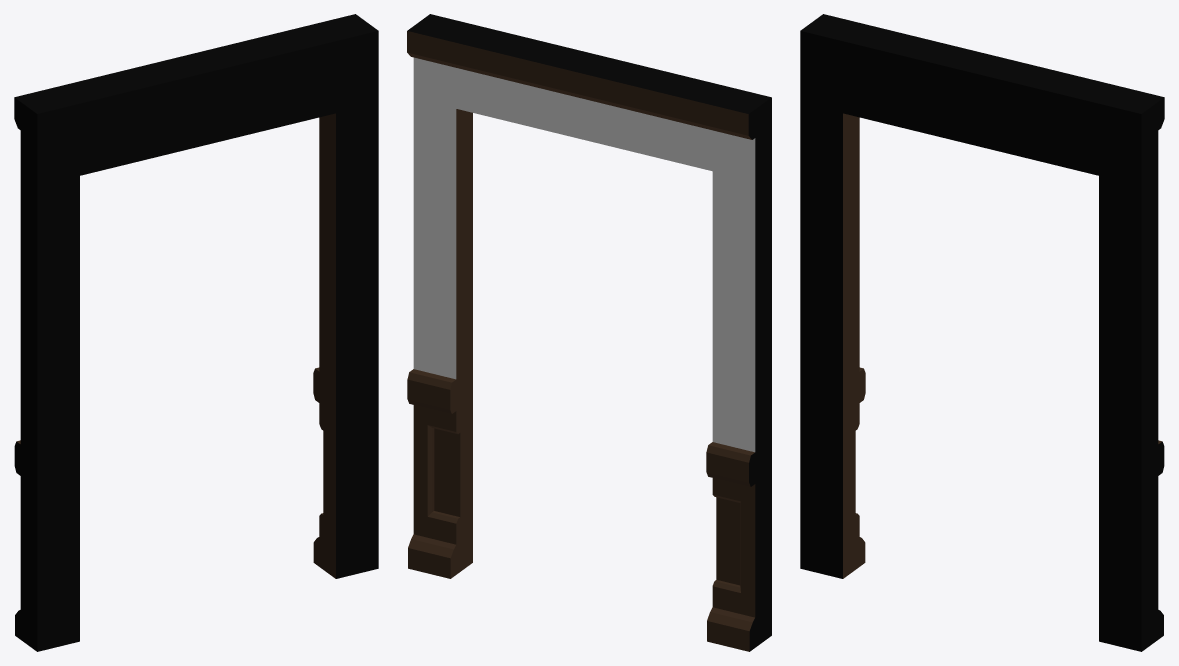
Rendered from Wall_DoorFrame.fbx.
3 views of the same model, side by side, from view 1: azimuth 30°, elevation 25°; view 2: azimuth 150°, elevation 25°; view 3: azimuth 330°, elevation 25° (orthographic).
Visible parts, largest first — view 1: Cube.007; view 2: Cube.007; view 3: Cube.007.
Part boxes in pixels (x1,y1,x2,y2): Cube.007: (14,14,378,651); Cube.007: (407,14,771,651); Cube.007: (800,14,1164,651).
Bounding box in the file's own units: 0.2334 × 2 × 3.01.
